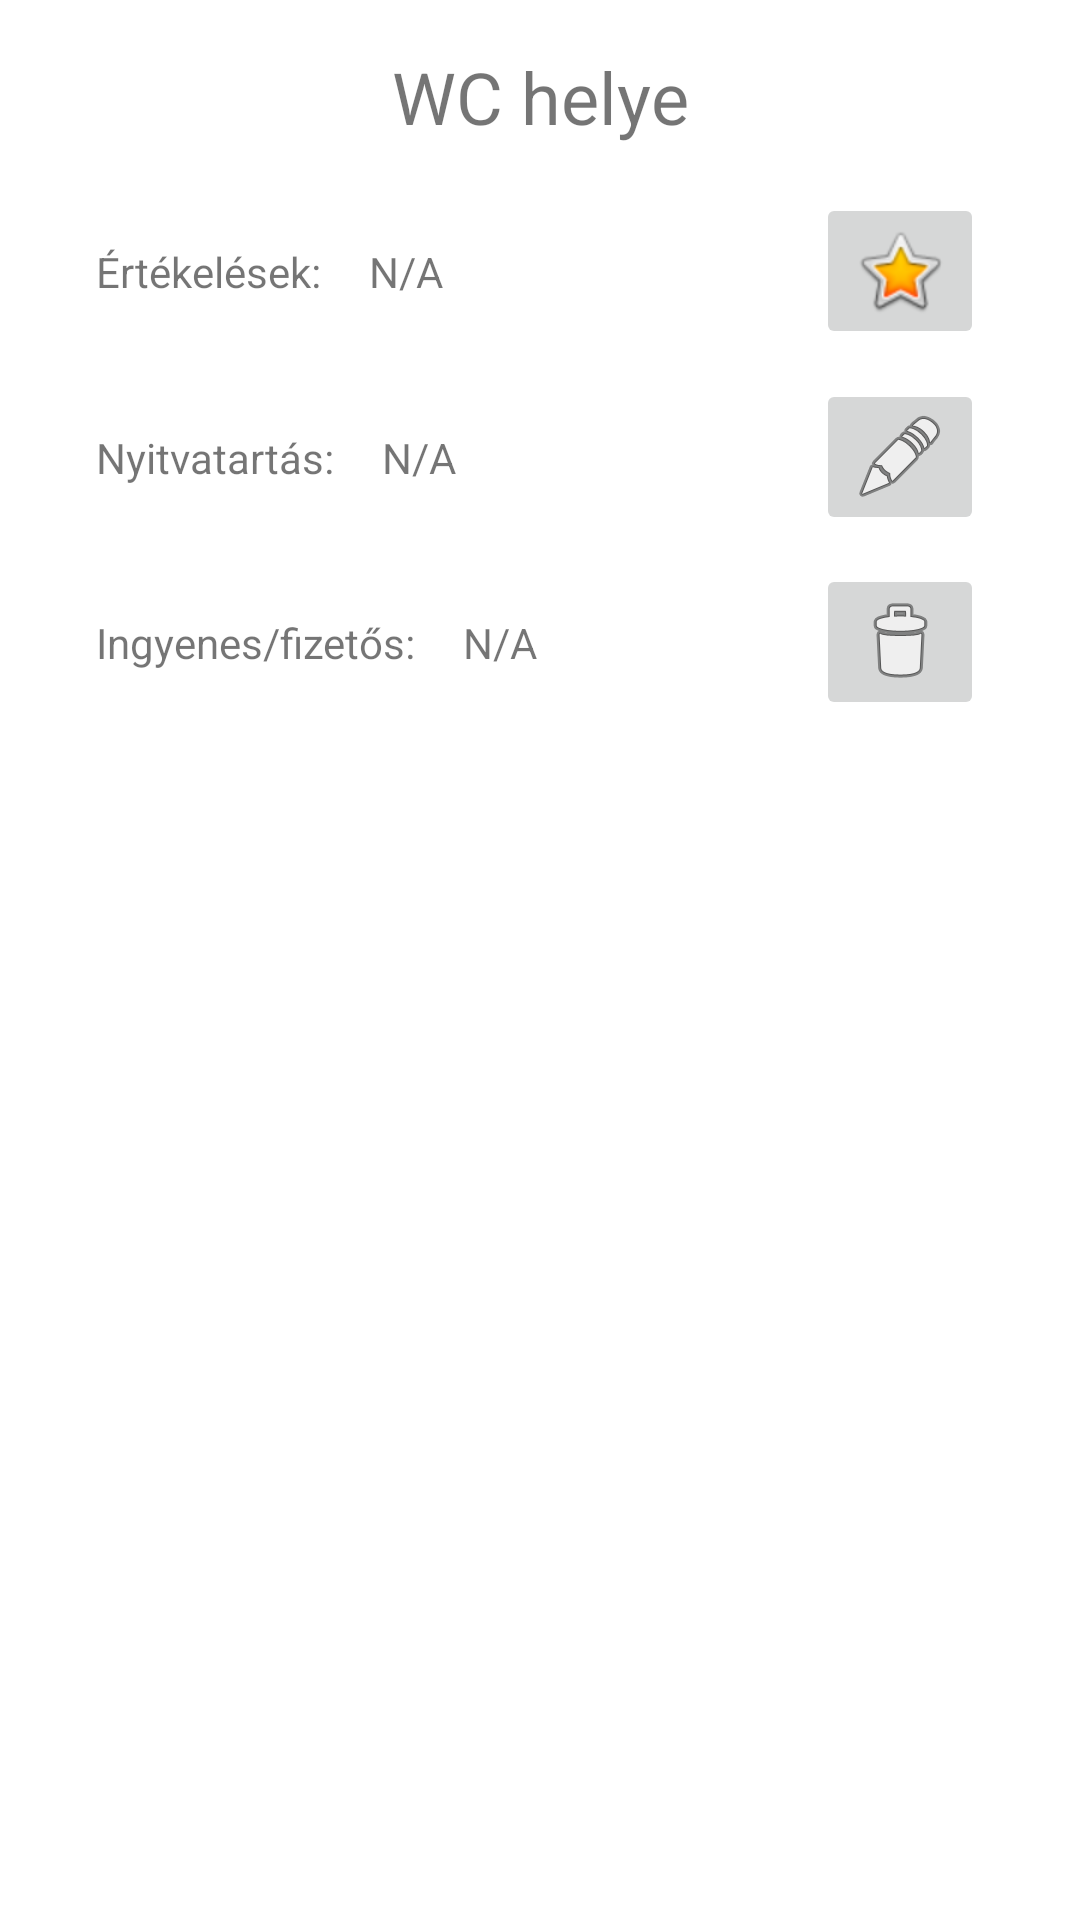

Where icons sit on this 1080×1920 app screen, as [left=x1, top=y1, right=x2, bottom=y2]:
delete: [left=828, top=582, right=972, bottom=702]
edit: [left=828, top=397, right=972, bottom=517]
star on: [left=828, top=211, right=972, bottom=331]
